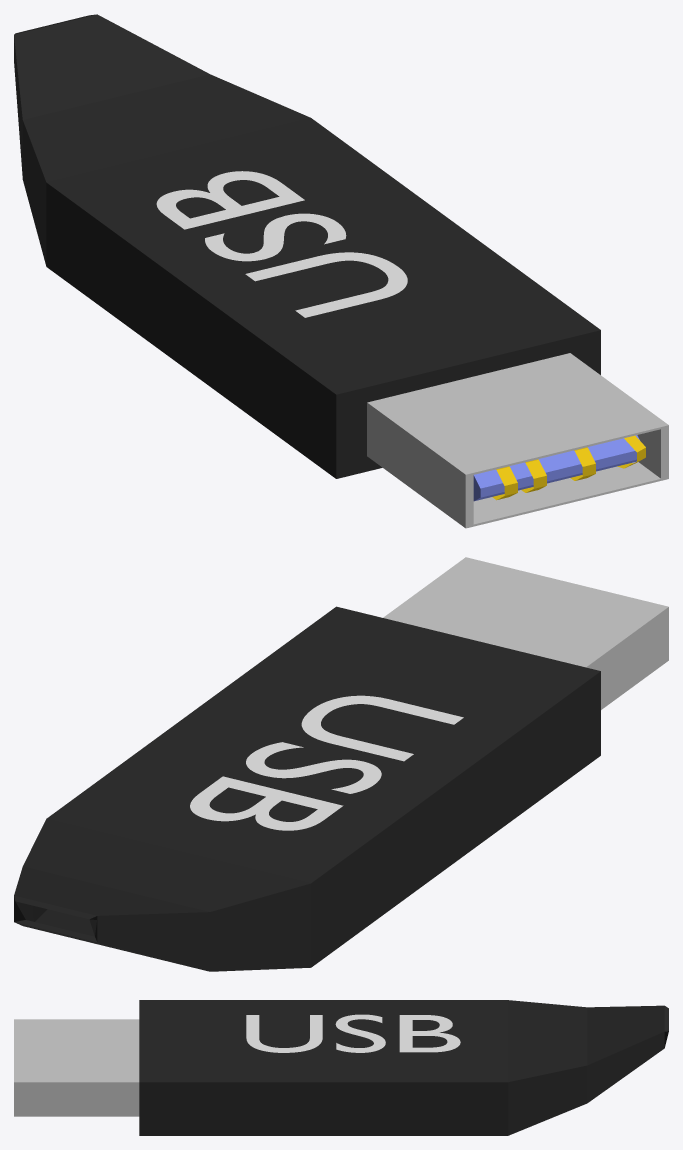
File: usbstickdamaged.glb
3 renders of one model, top to bottom at view 1: azimuth 30°, elevation 25°; view 2: azimuth 150°, elevation 25°; view 3: azimuth 270°, elevation 25°, orthographic. The views are drawn at different scales.
Parts seen in each view (by area): view 1: usbstick; view 2: usbstick; view 3: usbstick.
Boxes of the visible parts, x1=… form: usbstick: x1=14, y1=14, x2=668, y2=528; usbstick: x1=14, y1=557, x2=668, y2=971; usbstick: x1=14, y1=1000, x2=668, y2=1135.
Bounding box in the file's own units: 0.0221 × 0.00958 × 0.0746.
